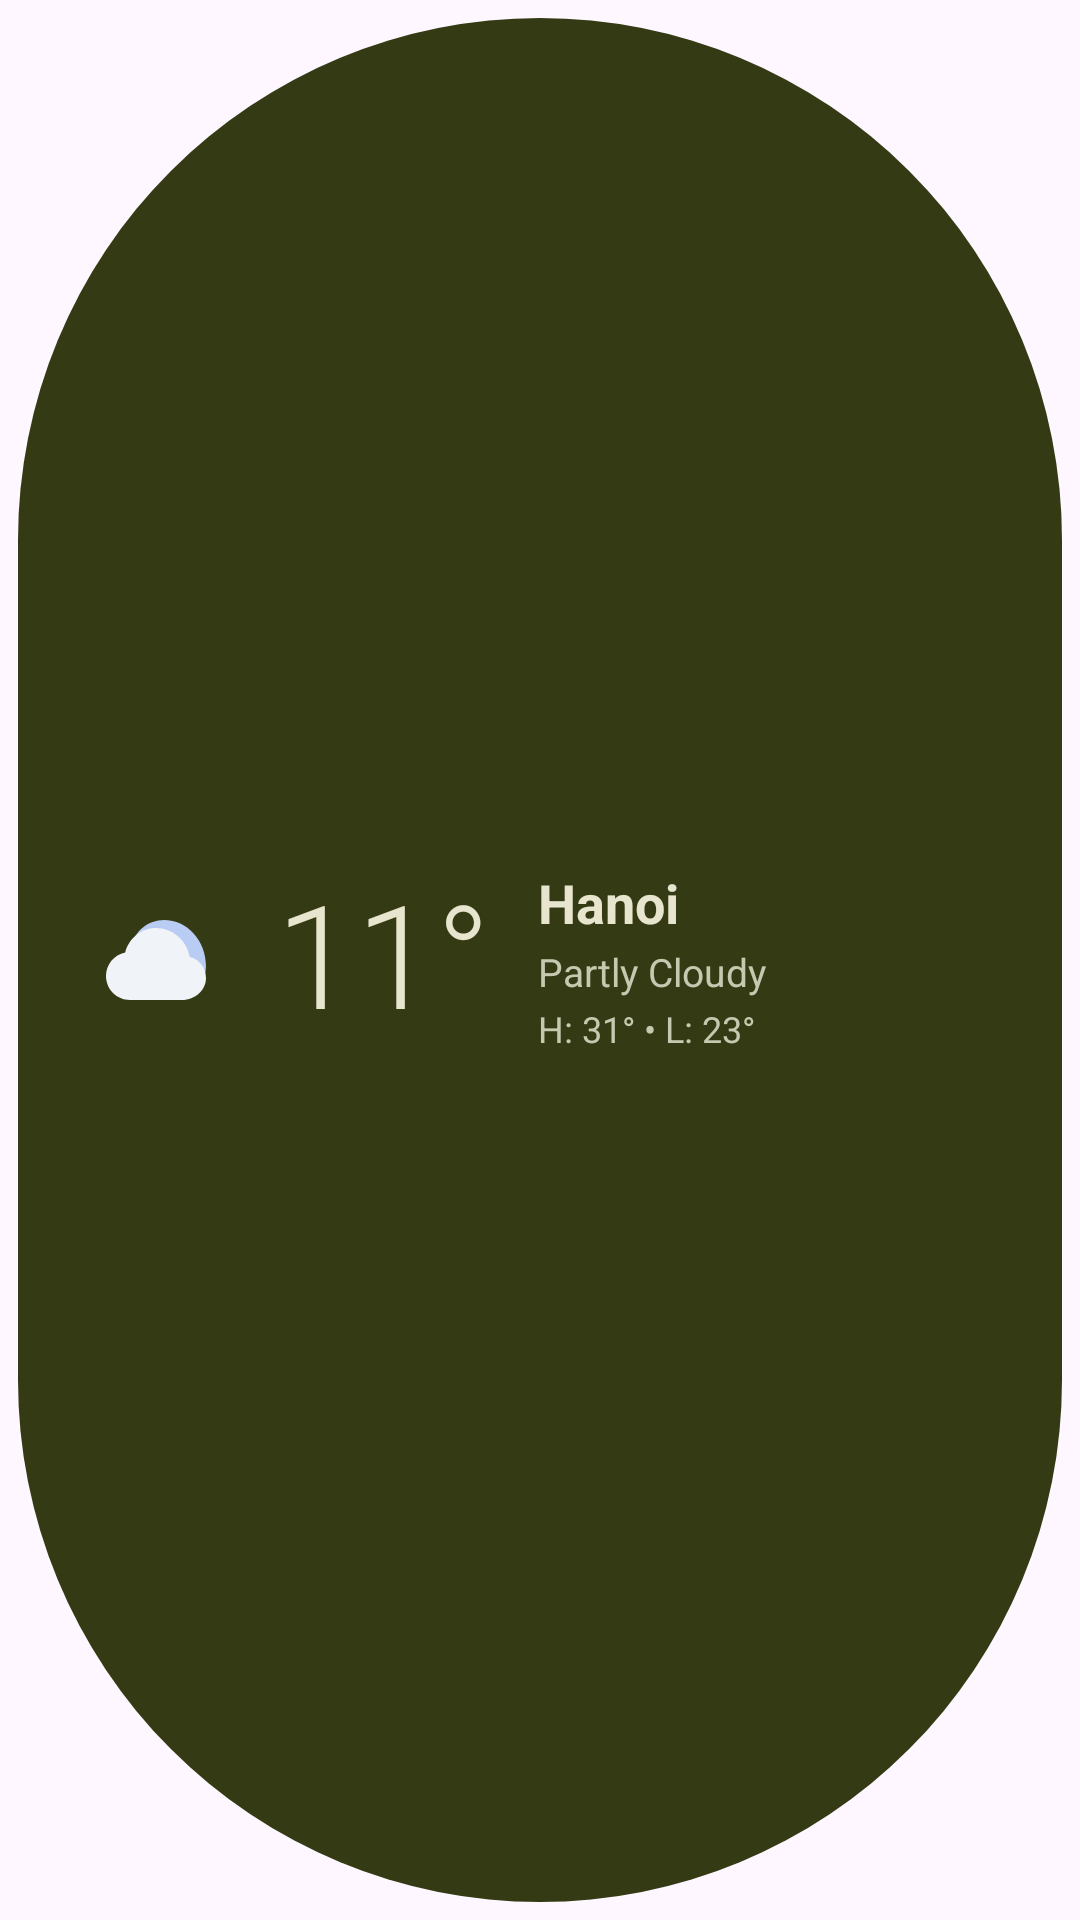

Where to tap for icons on this 1080*1920 app screen, as [x,y]:
Partly Cloudy: [156,960]
